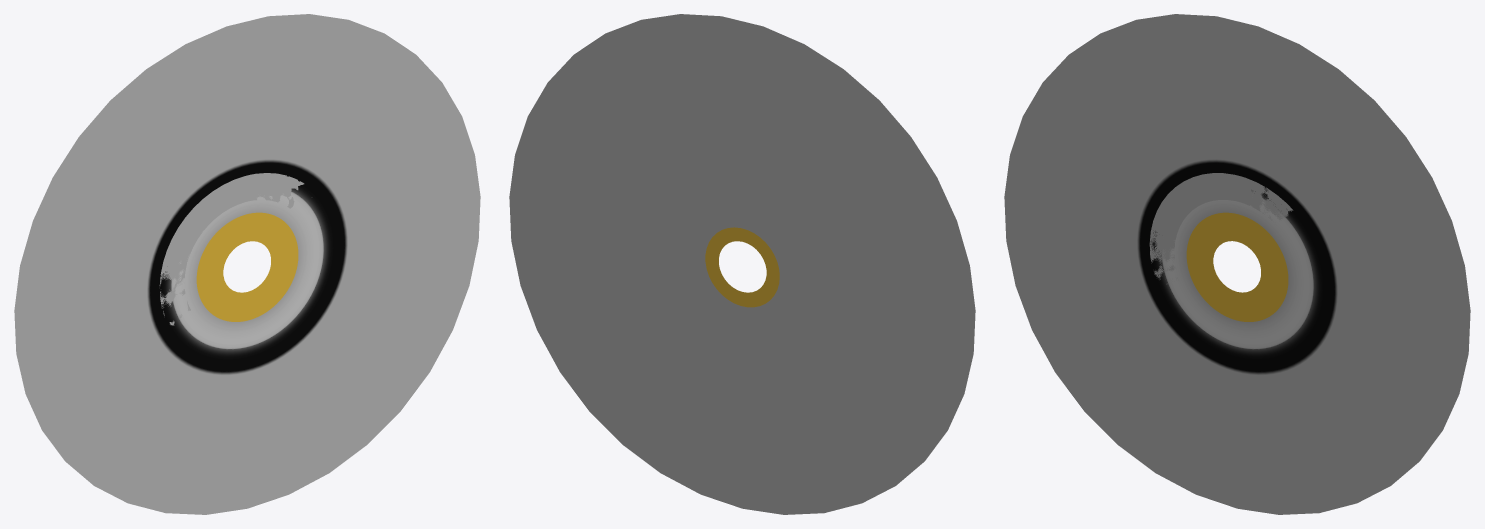
The model's file is pref_BattleSkillCommonSkillBtn0.fbx.
The picture shows the model from 3 angles, left to right: view 1: azimuth 30°, elevation 25°; view 2: azimuth 150°, elevation 25°; view 3: azimuth 330°, elevation 25°; orthographic projection.
Parts seen in each view (by area): view 1: flare, ring1, ring2, CountdownTrans; view 2: flare, ring4 (×2), line, ring2; view 3: flare, ring1, ring2, CountdownTrans.
Part boxes in pixels (x1,y1,x2,y2): flare: (14,14,480,514); ring1: (147,159,347,375); ring2: (196,212,298,321); CountdownTrans: (159,173,304,325); flare: (509,14,975,514); ring4 (×2): (649,167,834,366); line: (645,162,840,372); ring2: (705,227,779,307); flare: (1004,14,1470,514); ring1: (1137,159,1337,375); ring2: (1186,212,1288,321); CountdownTrans: (1149,173,1293,284).
Size of the model in its own units: 329 by 329 by 0.01.
